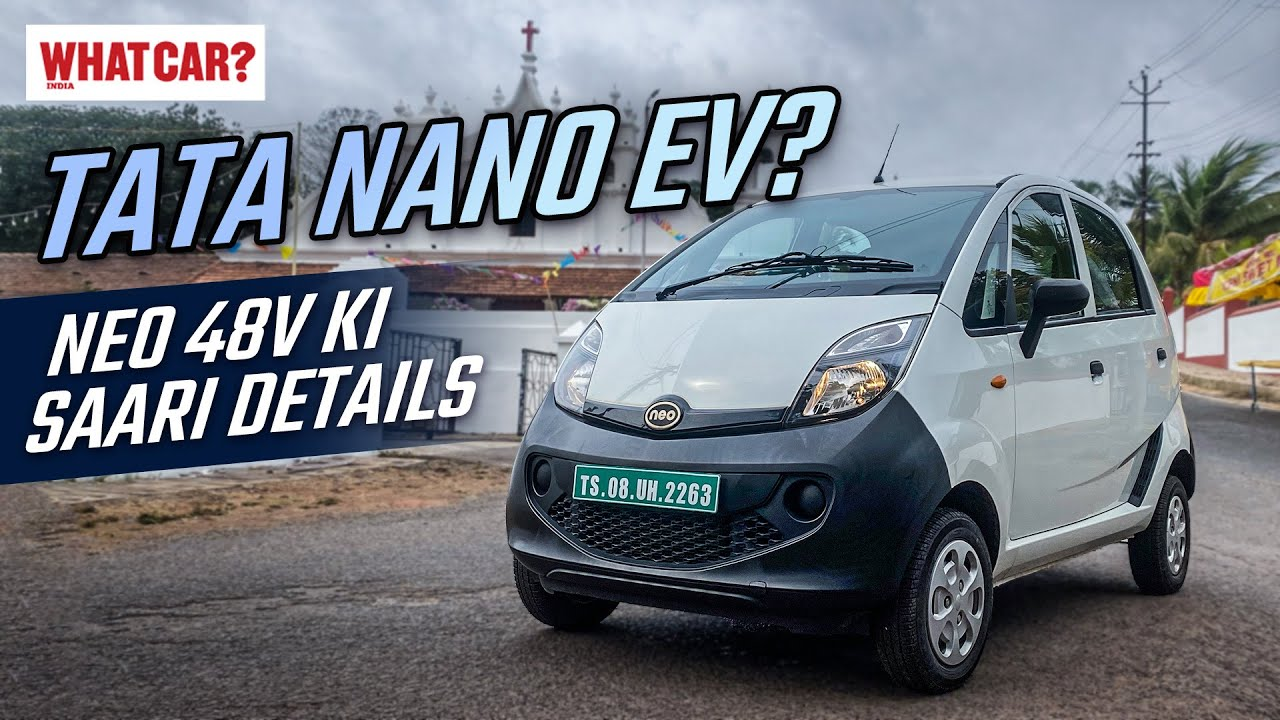Nano: (500, 170, 1195, 690)
